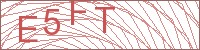5: (43, 8, 61, 35)
E: (17, 15, 39, 43)
F: (69, 1, 89, 26)
T: (93, 5, 116, 34)
